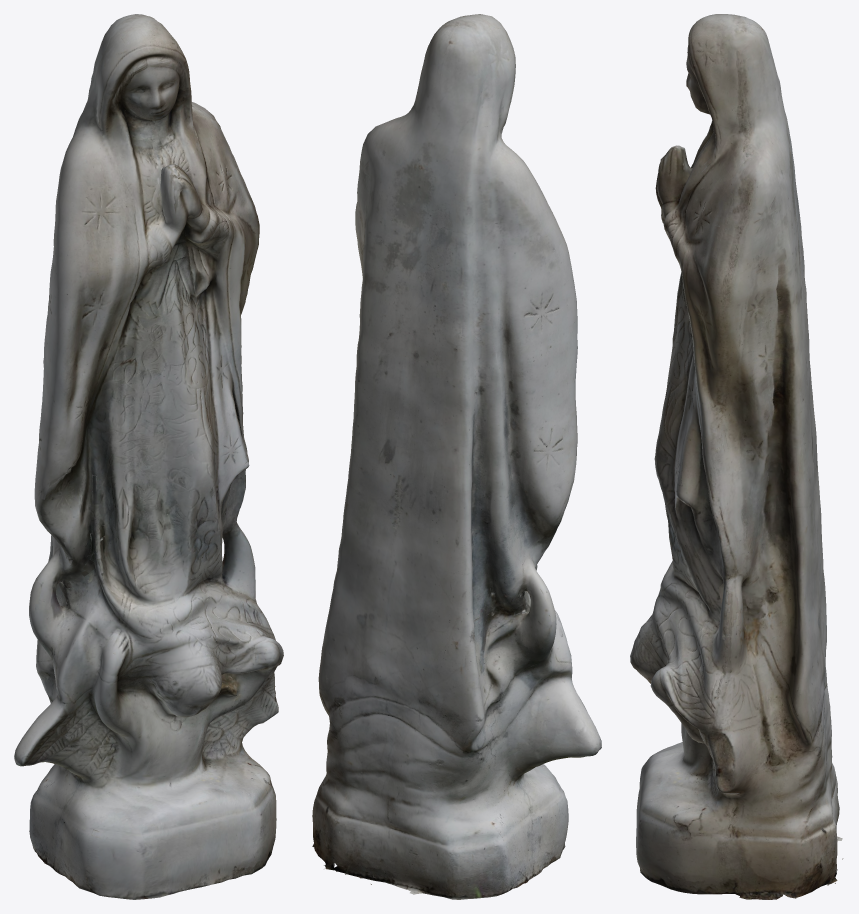
3 views of the same model, side by side, from view 1: azimuth 30°, elevation 25°; view 2: azimuth 150°, elevation 25°; view 3: azimuth 270°, elevation 25° (orthographic).
Parts seen in each view (by area): view 1: madrestatue; view 2: madrestatue; view 3: madrestatue.
Part boxes in pixels (x1,y1,x2,y2): madrestatue: (14, 14, 283, 899); madrestatue: (312, 14, 601, 899); madrestatue: (630, 14, 843, 899).
Size of the model in its own units: 196 by 593 by 140.
